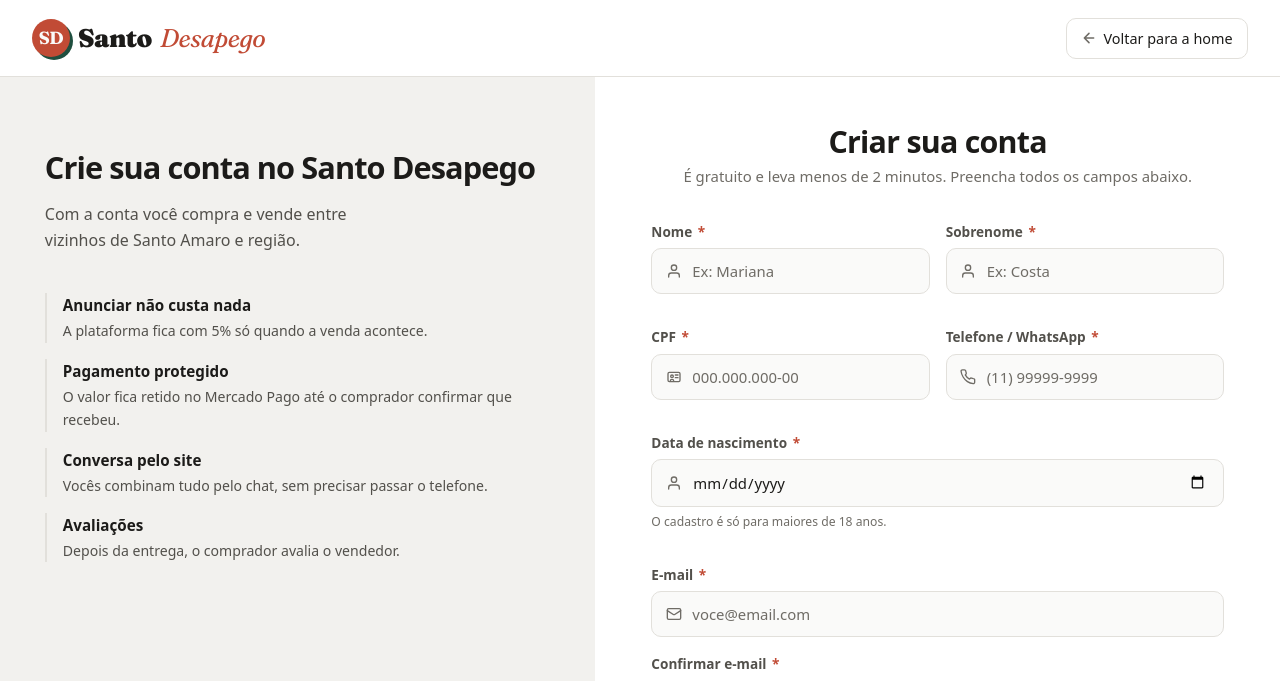
Test: RF01 - Gestão de Perfil Geográfico › o telefone ganha máscara (11) 98765-4321
Type "11987654321" into the field with placeholder "(11) 99999-9999" at coordinates (1085, 376), box x1=946 y1=354 x2=1224 y2=400
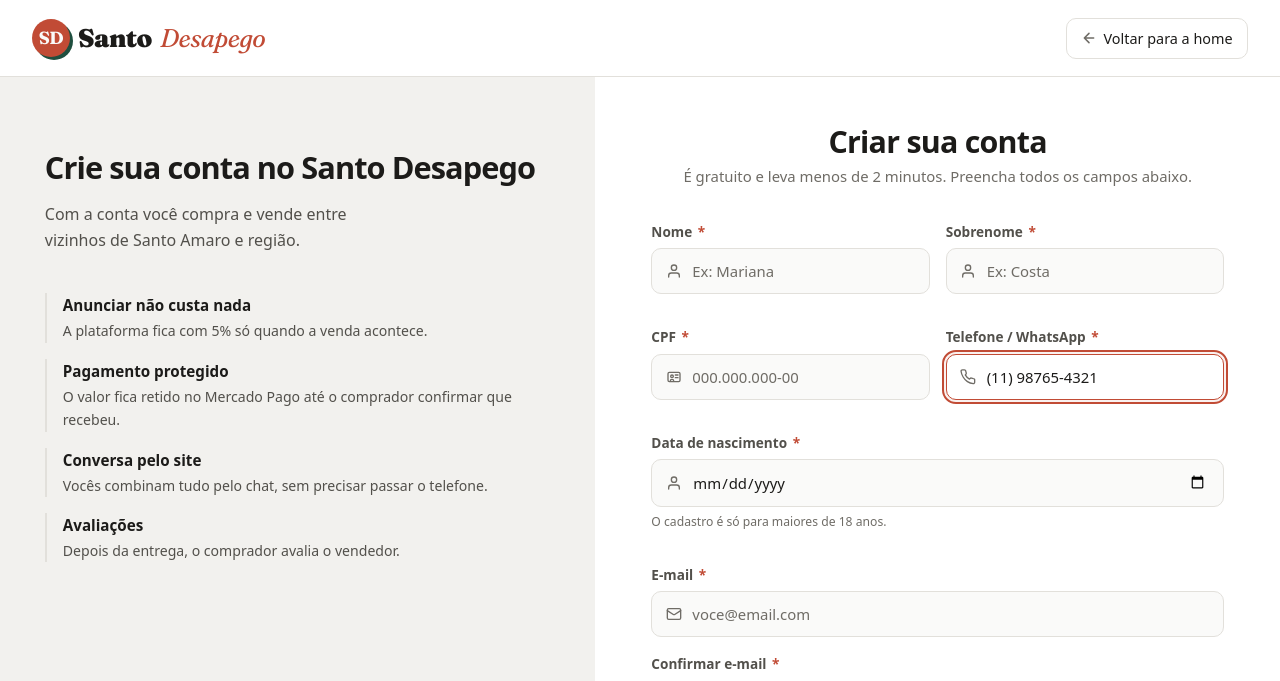
Result: the field with placeholder "(11) 99999-9999" holds "(11) 98765-4321" at x1=946 y1=354 x2=1224 y2=400
